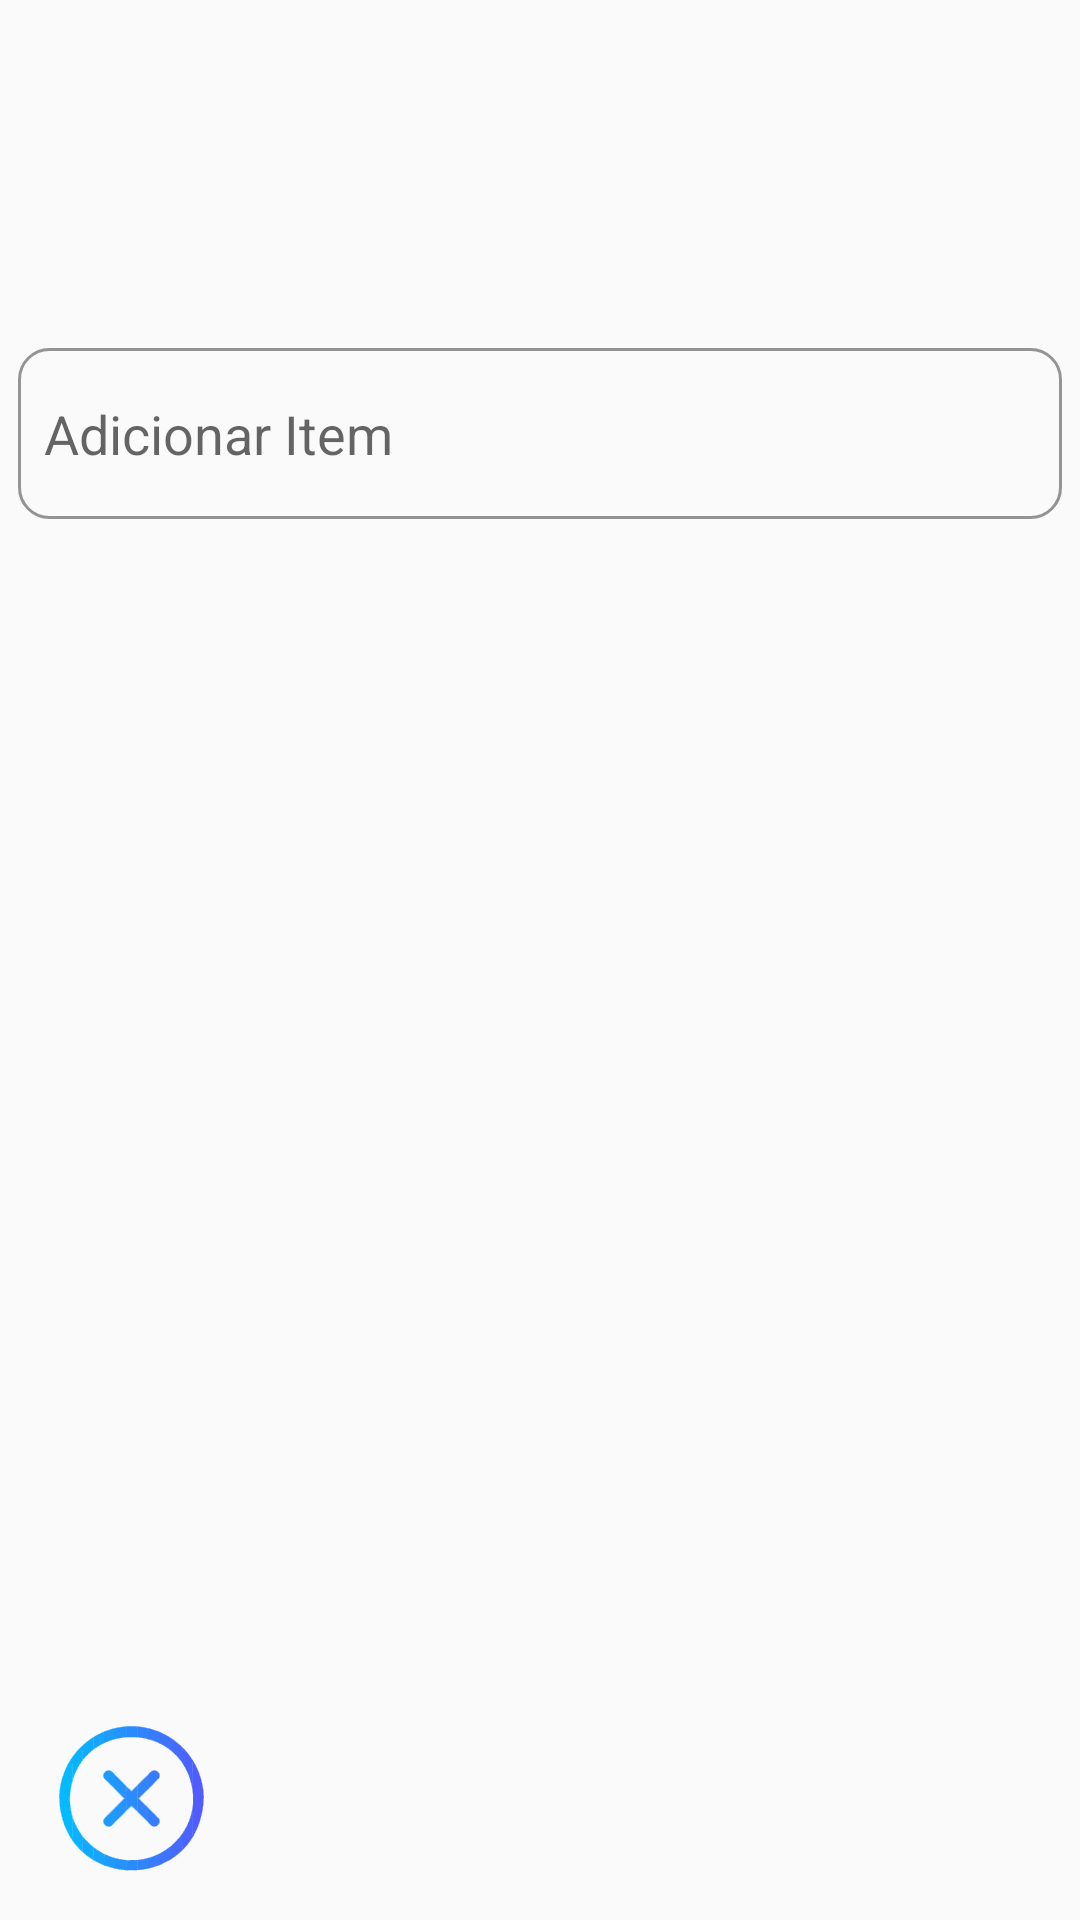

Where icons sit on this 1080x1920 app screen, as (x1, y1, x2, y2):
cancelar: (59, 1726, 204, 1871)
